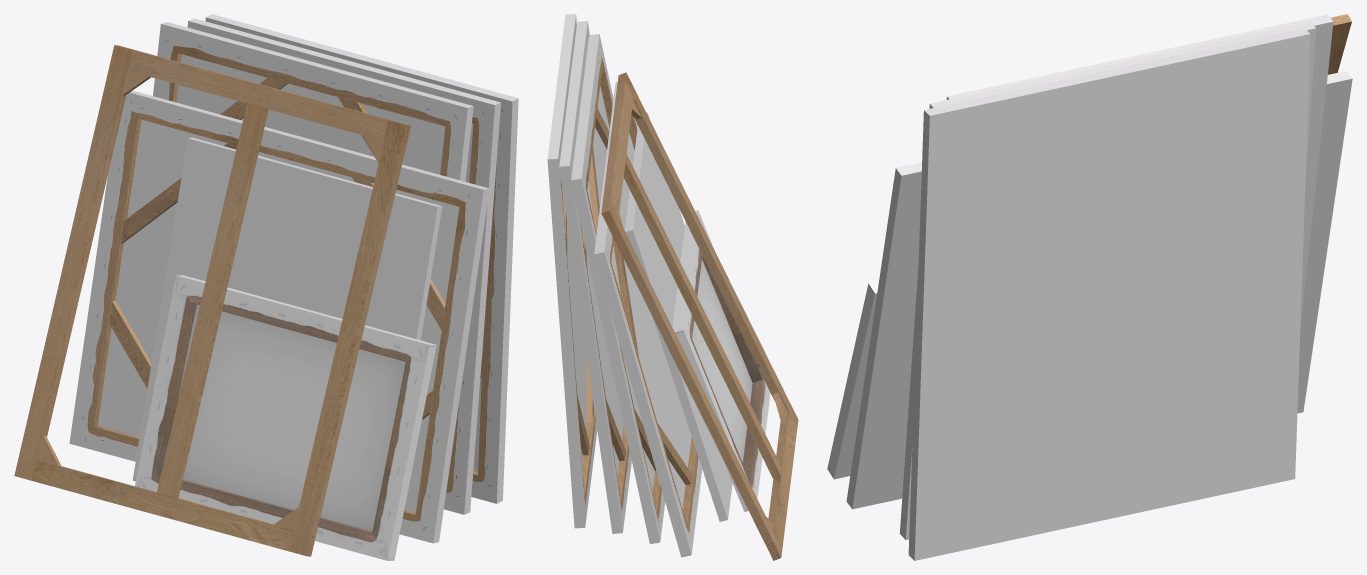
Rendered from SM_MERGED_Canvas_Frame_67.fbx.
3 views of the same model, side by side, from view 1: azimuth 30°, elevation 25°; view 2: azimuth 150°, elevation 25°; view 3: azimuth 270°, elevation 25° (orthographic). The views are drawn at different scales.
Parts seen in each view (by area): view 1: SM_MERGED_Canvas_Frame_67; view 2: SM_MERGED_Canvas_Frame_67; view 3: SM_MERGED_Canvas_Frame_67.
Boxes of the visible parts, x1,y1,x2,y2 form: SM_MERGED_Canvas_Frame_67: [14, 14, 518, 560]; SM_MERGED_Canvas_Frame_67: [547, 14, 798, 560]; SM_MERGED_Canvas_Frame_67: [827, 14, 1352, 560].
Bounding box in the file's own units: 93.02 × 95.7 × 98.76.
